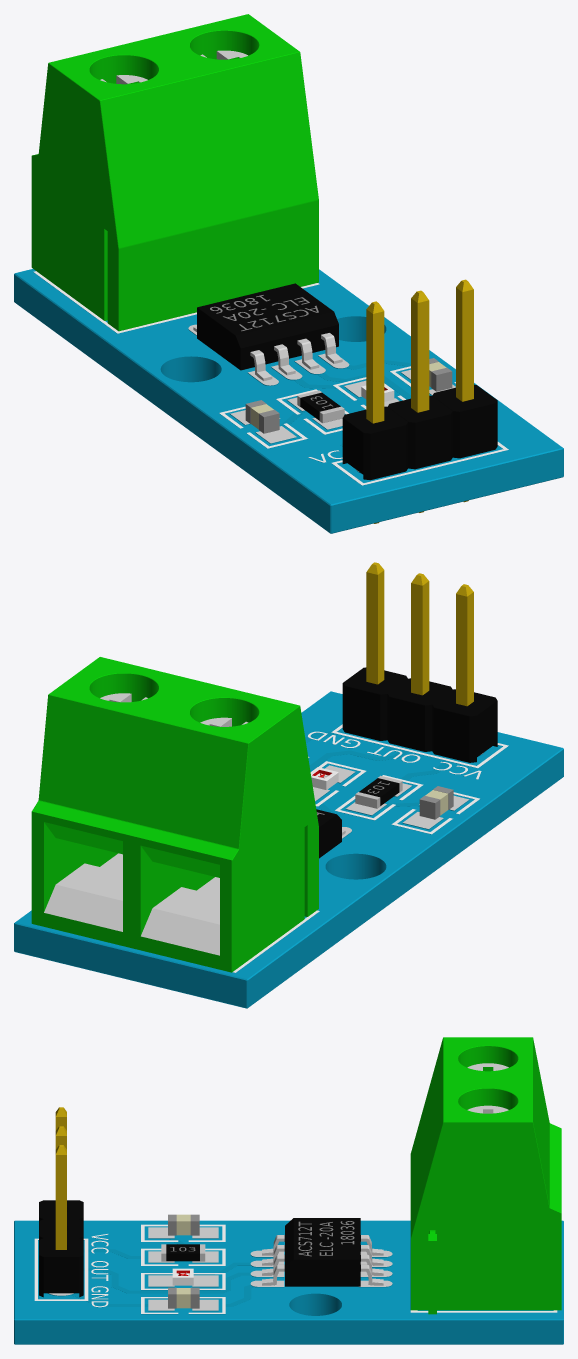
File: acs712.glb
3 renders of one model, top to bottom at view 1: azimuth 30°, elevation 25°; view 2: azimuth 150°, elevation 25°; view 3: azimuth 270°, elevation 25°, orthographic. The views are drawn at different scales.
Visible parts, largest first — view 1: Node14, Node2, Node3, Node13, Node10, Node4, Node11, Node8, Node12, Node1; view 2: Node14, Node2, Node3, Node4, Node10, Node11, Node12, Node13, Node8; view 3: Node2, Node14, Node3, Node4, Node11, Node10, Node12, Node13, Node8, Node9, Node1.
Boxes of the visible parts, box(x1,y1,x2,y2) form: Node14: box(31, 14, 318, 331); Node2: box(14, 269, 563, 533); Node3: box(197, 283, 497, 480); Node13: box(33, 272, 563, 533); Node10: box(366, 279, 473, 523); Node4: box(100, 50, 455, 471); Node11: box(33, 271, 508, 485); Node8: box(245, 358, 452, 433); Node12: box(280, 360, 410, 446); Node1: box(210, 295, 332, 406); Node14: box(31, 657, 318, 972); Node2: box(14, 691, 563, 1008); Node3: box(316, 667, 497, 858); Node4: box(44, 693, 482, 955); Node10: box(366, 562, 473, 706); Node11: box(233, 724, 508, 972); Node12: box(305, 730, 455, 813); Node13: box(233, 728, 502, 972); Node8: box(419, 786, 453, 819); Node2: box(14, 1220, 563, 1344); Node14: box(410, 1037, 561, 1314); Node3: box(39, 1200, 360, 1297); Node4: box(49, 1063, 508, 1310); Node11: box(34, 1224, 557, 1313); Node10: box(55, 1107, 66, 1249); Node12: box(72, 1237, 253, 1306); Node13: box(14, 1238, 553, 1344); Node8: box(168, 1214, 199, 1308); Node9: box(176, 1214, 190, 1308); Node1: box(173, 1221, 354, 1256).
Size of the model in its own units: 13.3 by 14.91 by 31.2.
